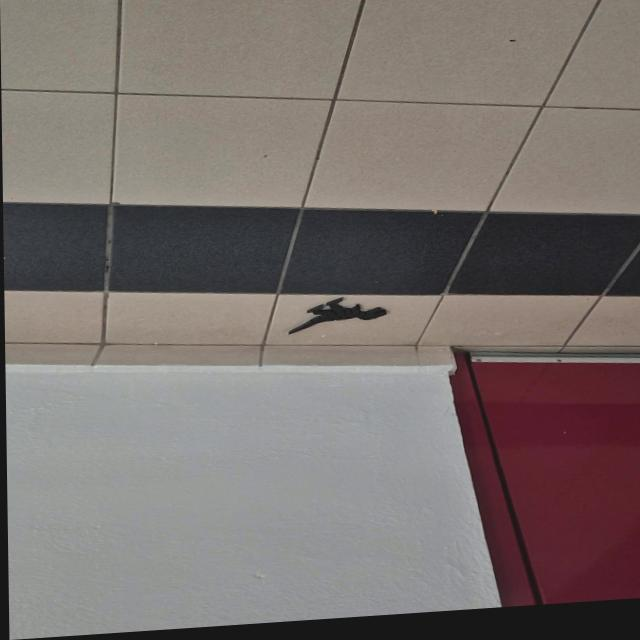dino: (287, 294, 388, 335)
